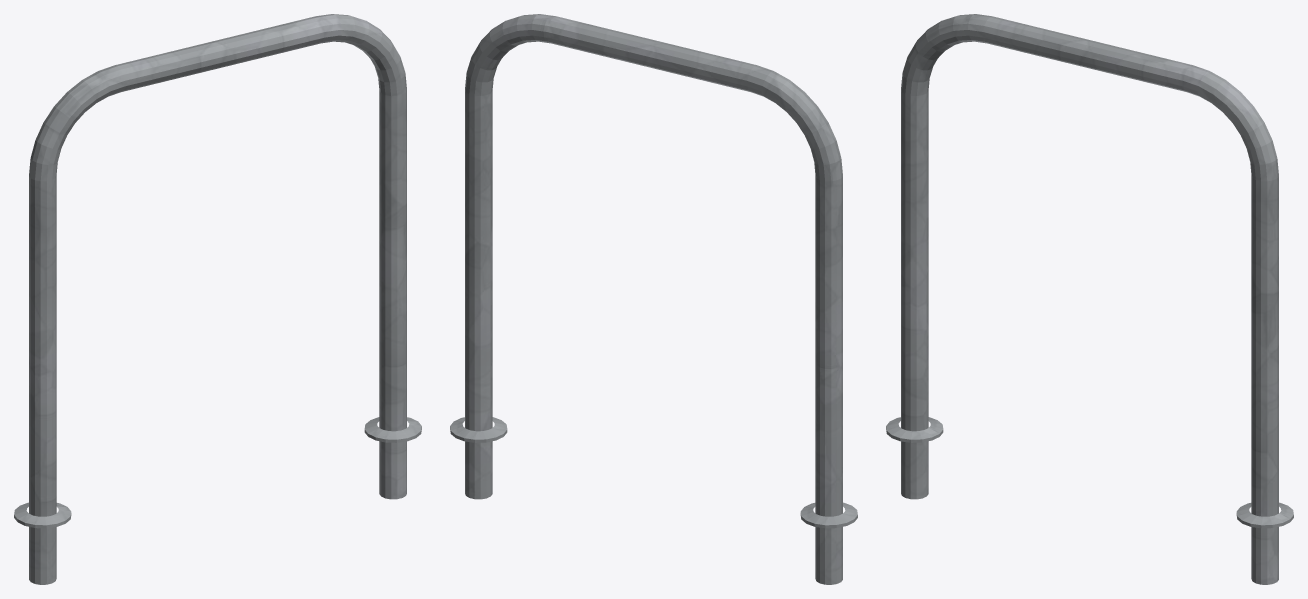
Rendered from BikeRack.obj.
3 views of the same model, side by side, from view 1: azimuth 30°, elevation 25°; view 2: azimuth 150°, elevation 25°; view 3: azimuth 330°, elevation 25° (orthographic).
Parts seen in each view (by area): view 1: Galvanised; view 2: Galvanised; view 3: Galvanised.
Part boxes in pixels (x1,y1,x2,y2): Galvanised: [14, 14, 421, 584]; Galvanised: [450, 14, 857, 584]; Galvanised: [886, 14, 1293, 584].
Size of the model in its own units: 0.8 by 0.944 by 0.1.
1 material, 1 textured.
